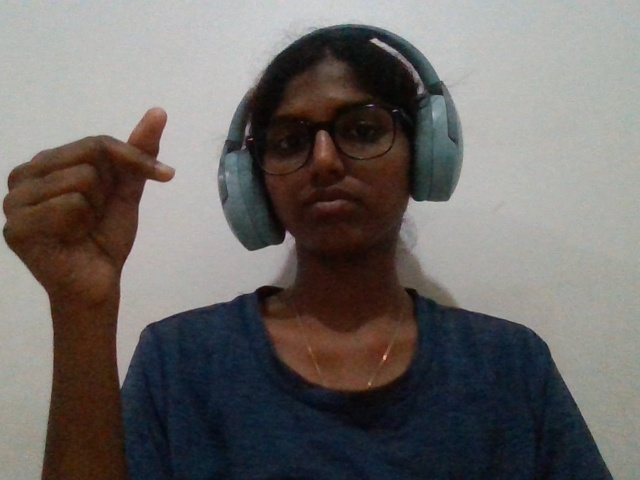G: (1, 72, 203, 396)
